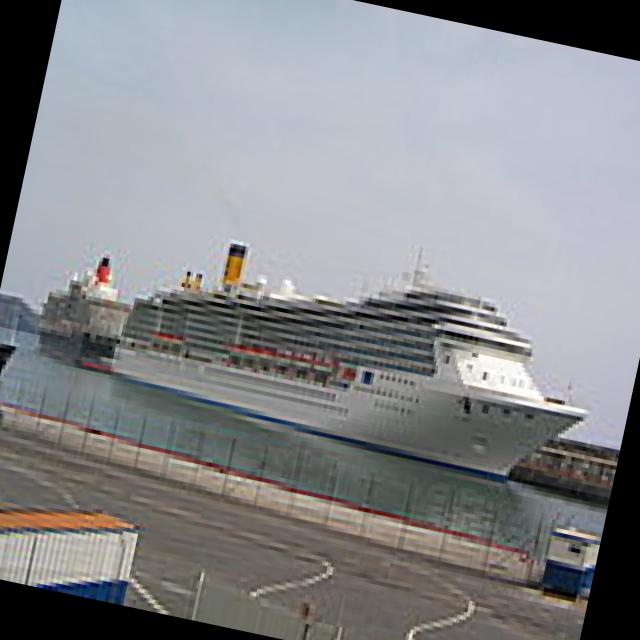boat: (102, 272, 599, 500), (31, 286, 143, 376)
